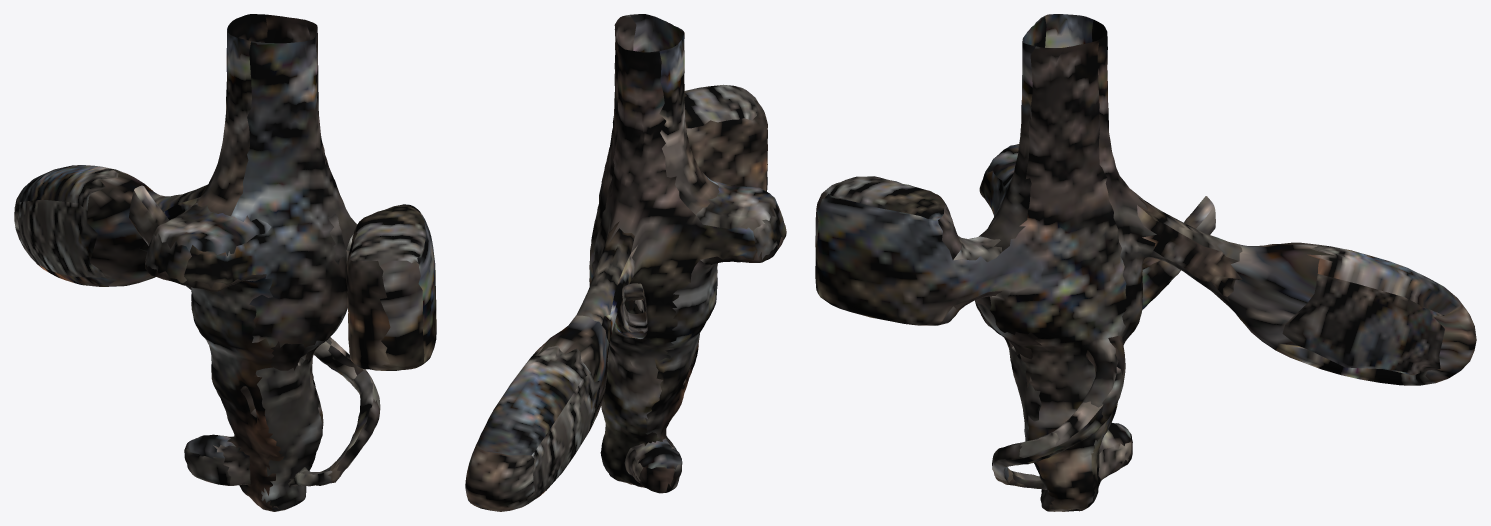
Rendered from CaveTest.fbx.
The picture shows the model from 3 angles, left to right: view 1: azimuth 30°, elevation 25°; view 2: azimuth 150°, elevation 25°; view 3: azimuth 270°, elevation 25°; orthographic projection. The views are drawn at different scales.
Parts seen in each view (by area): view 1: CaveBase; view 2: CaveBase; view 3: CaveBase.
Part boxes in pixels (box(x1,y1,x2,y2)): CaveBase: box(14, 14, 436, 511); CaveBase: box(465, 14, 786, 511); CaveBase: box(815, 14, 1476, 511).
Size of the model in its own units: 21356 by 44010 by 55308.
